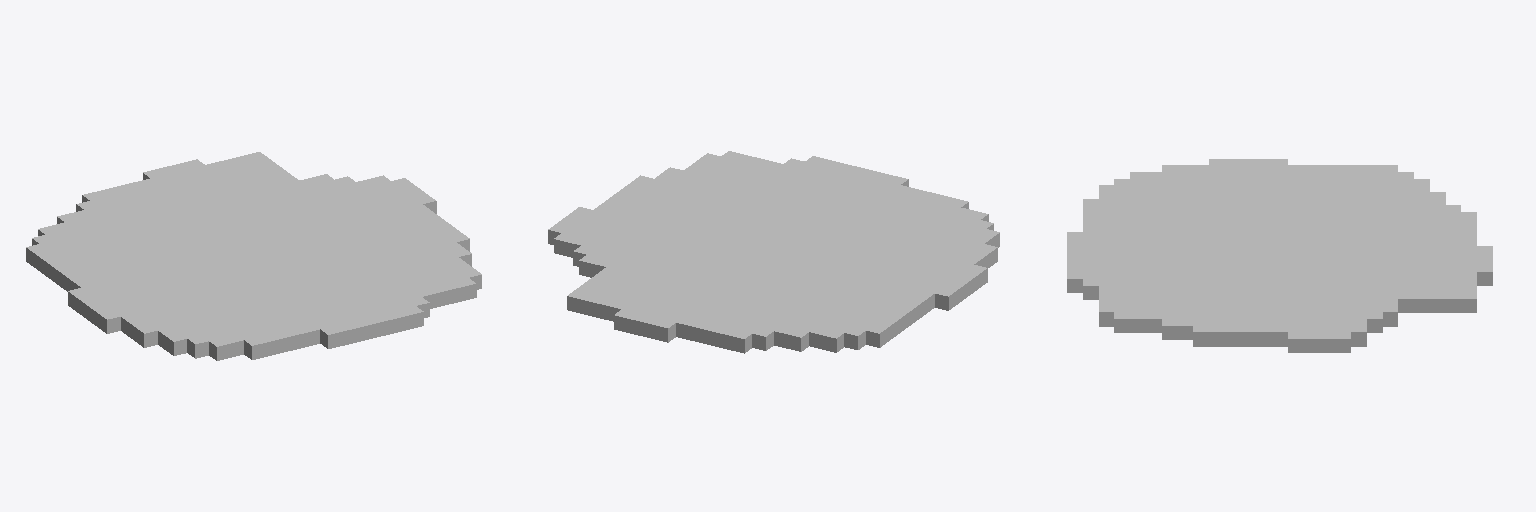
File: Water lily.obj
The picture shows the model from 3 angles: view 1: azimuth 30°, elevation 25°; view 2: azimuth 150°, elevation 25°; view 3: azimuth 270°, elevation 25°; orthographic projection.
Visible parts, largest first — view 1: object 1; view 2: object 1; view 3: object 1.
Part boxes in pixels (x1,y1,x2,y2): object 1: (26, 152, 481, 360); object 1: (548, 151, 999, 353); object 1: (1067, 159, 1492, 352).
Bounding box in the file's own units: 2.7 × 0.1 × 2.7.